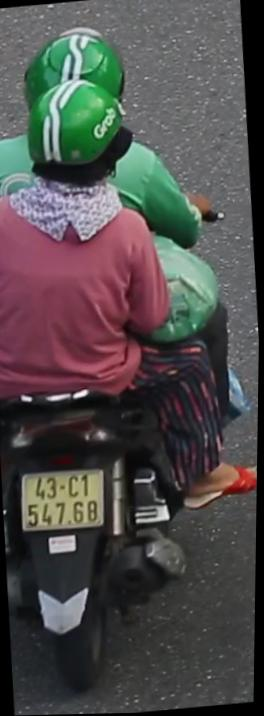LP: (16, 460, 111, 540)
helmet: (24, 74, 143, 236), (13, 6, 139, 115)
